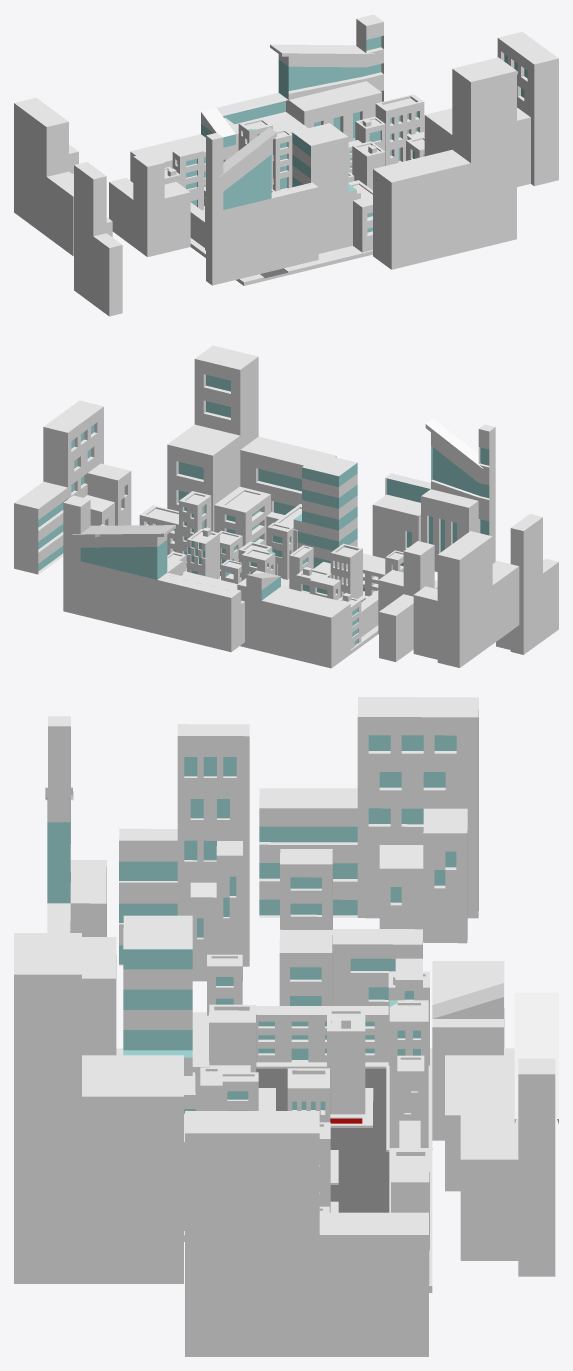
The model's file is ville.glb.
The picture shows the model from 3 angles, top to bottom: view 1: azimuth 30°, elevation 25°; view 2: azimuth 150°, elevation 25°; view 3: azimuth 270°, elevation 25°; orthographic projection. The views are drawn at different scales.
Parts seen in each view (by area): view 1: Cube.010, Cube.015, Plane.001, Cube.009, Cube.013, Cube.011, Cube.012, Cube.014, Plane, Cube.007, Cube.002; view 2: Plane.001, Cube.009, Cube.010, Cube.015, Cube.011, Cube.013, Plane, Cube.014, Cube.012, Cube.003, Cube.006, Cube.008 (+1 smaller); view 3: Cube.011, Cube.010, Cube.013, Plane.001, Cube.009, Cube.014, Cube.012, Cube.015, Plane, Cube.002, Cube.003, Cube.007 (+2 smaller).
Part boxes in pixels (x1=…): Cube.010: x1=373, y1=57, x2=516, y2=269; Cube.015: x1=206, y1=127, x2=318, y2=285; Plane.001: x1=130, y1=108, x2=357, y2=285; Cube.009: x1=217, y1=14, x2=383, y2=141; Cube.013: x1=14, y1=97, x2=78, y2=256; Cube.011: x1=497, y1=31, x2=558, y2=186; Cube.012: x1=109, y1=152, x2=190, y2=257; Cube.014: x1=74, y1=162, x2=122, y2=316; Plane: x1=273, y1=116, x2=424, y2=258; Cube.007: x1=375, y1=94, x2=424, y2=165; Cube.002: x1=190, y1=202, x2=204, y2=247; Plane.001: x1=237, y1=453, x2=437, y2=668; Cube.009: x1=63, y1=495, x2=244, y2=652; Cube.010: x1=167, y1=345, x2=336, y2=531; Cube.015: x1=372, y1=418, x2=495, y2=571; Cube.011: x1=14, y1=400, x2=131, y2=574; Cube.013: x1=413, y1=531, x2=519, y2=667; Plane: x1=167, y1=486, x2=301, y2=587; Cube.014: x1=496, y1=514, x2=558, y2=654; Cube.012: x1=378, y1=541, x2=434, y2=661; Cube.003: x1=330, y1=543, x2=362, y2=598; Cube.006: x1=139, y1=505, x2=178, y2=555; Cube.008: x1=363, y1=553, x2=385, y2=596; Cube.011: x1=185, y1=1111, x2=428, y2=1356; Cube.010: x1=14, y1=933, x2=183, y2=1283; Cube.013: x1=259, y1=697, x2=478, y2=943; Plane.001: x1=116, y1=915, x2=504, y2=1151; Cube.009: x1=445, y1=992, x2=558, y2=1276; Cube.014: x1=119, y1=724, x2=249, y2=981; Cube.012: x1=279, y1=849, x2=422, y2=1005; Cube.015: x1=45, y1=716, x2=116, y2=1055; Plane: x1=184, y1=1055, x2=432, y2=1292; Cube.002: x1=256, y1=1006, x2=388, y2=1062; Cube.003: x1=209, y1=1004, x2=256, y2=1072; Cube.007: x1=391, y1=1148, x2=429, y2=1283.
Bounding box in the file's own units: 416 × 149 × 229.
